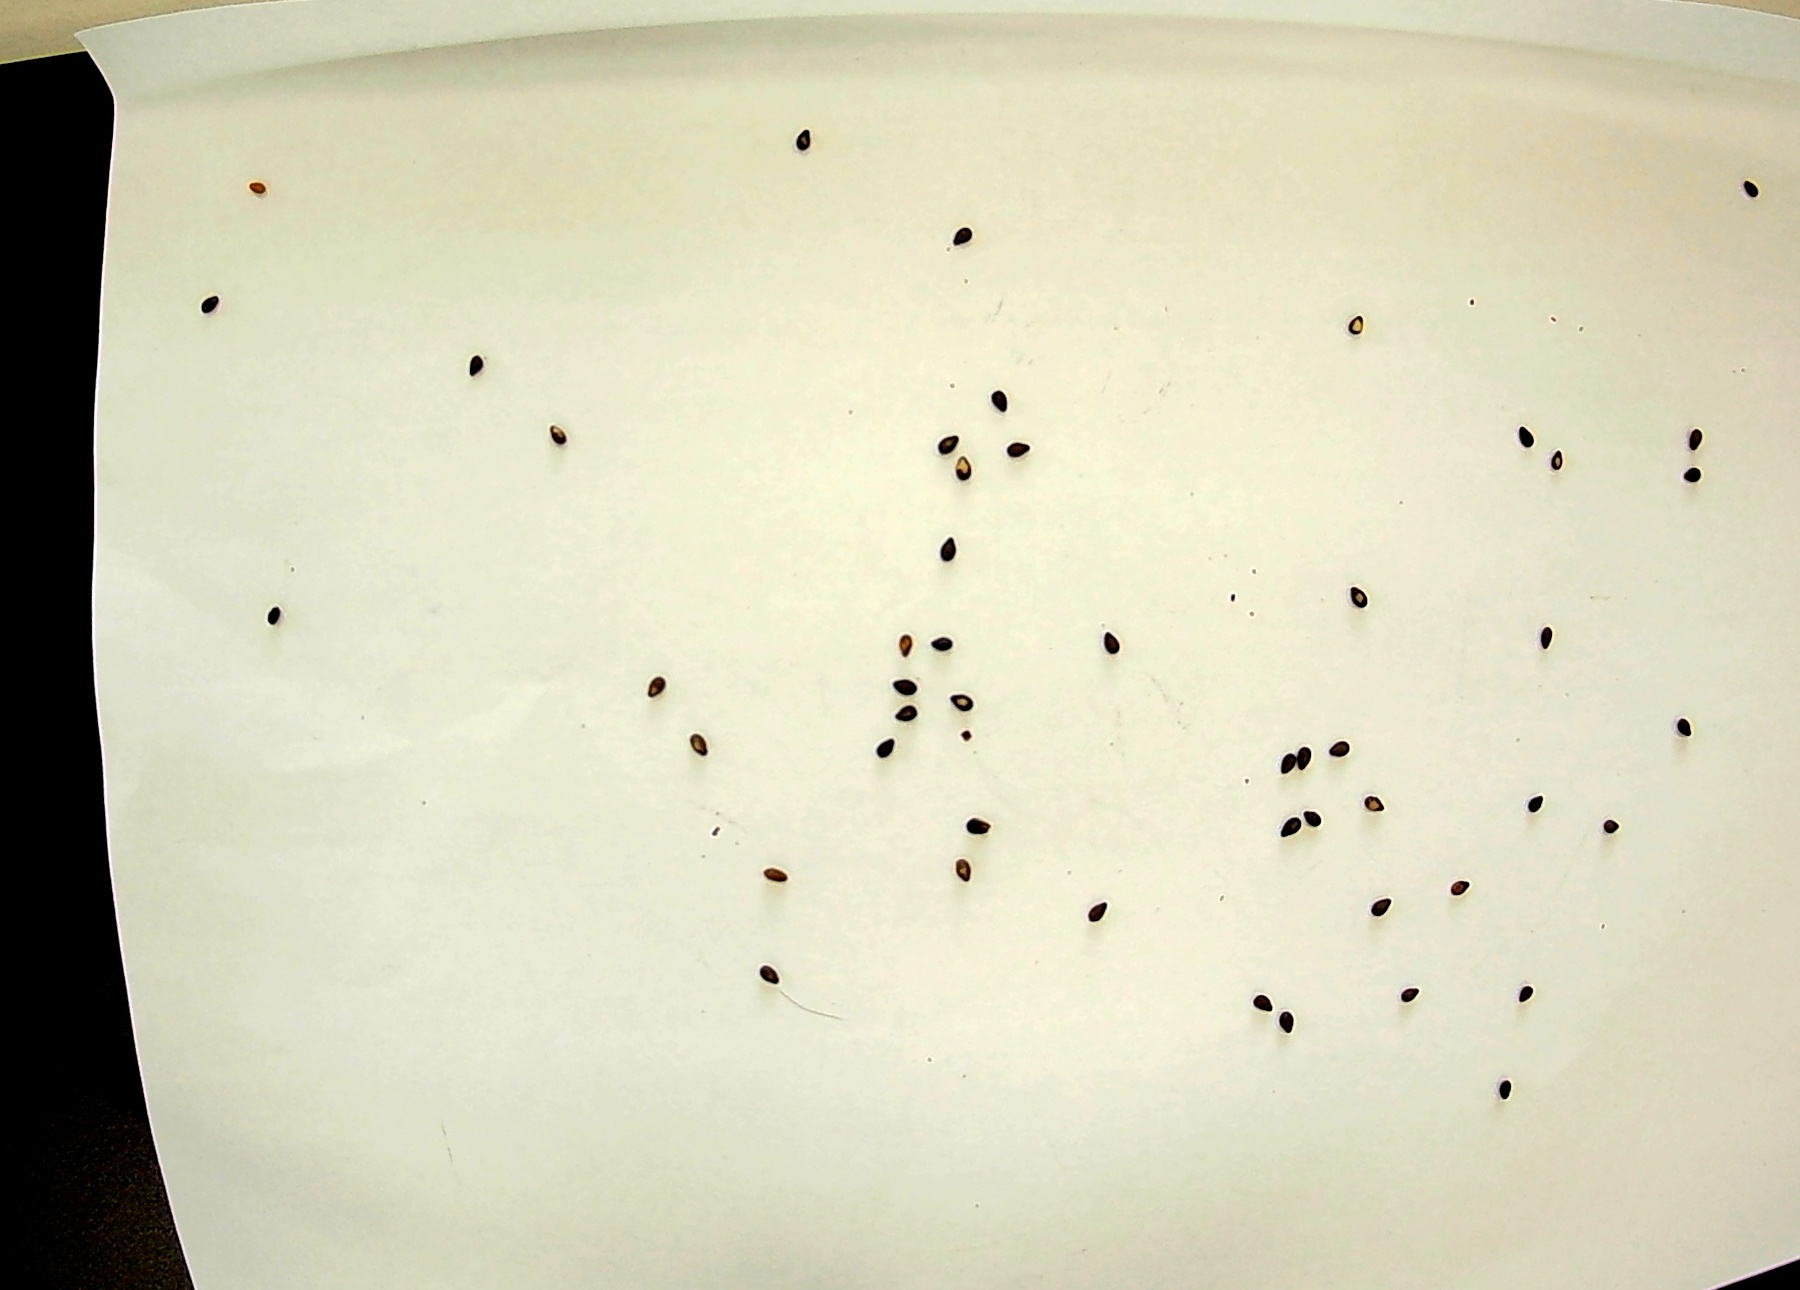sesami: (1331, 585, 1383, 628), (940, 216, 978, 261), (1681, 415, 1718, 459), (1507, 966, 1543, 1007), (1293, 732, 1326, 776), (1522, 620, 1563, 655), (1370, 891, 1402, 933), (1094, 623, 1125, 666), (532, 417, 572, 450), (1672, 459, 1708, 494), (681, 726, 719, 759), (1273, 733, 1298, 783), (885, 672, 927, 701), (889, 698, 922, 734), (1525, 783, 1566, 813), (1249, 981, 1281, 1018), (1358, 792, 1407, 815), (938, 524, 968, 561), (250, 610, 301, 632), (747, 961, 791, 986), (875, 730, 910, 762), (957, 813, 992, 845), (1342, 316, 1374, 350), (639, 676, 675, 706), (1300, 806, 1331, 842), (751, 868, 793, 895), (786, 124, 811, 168), (174, 290, 225, 311), (453, 353, 488, 383), (1273, 1007, 1305, 1037), (1513, 412, 1538, 451), (1494, 1067, 1520, 1106), (931, 624, 967, 651), (928, 430, 968, 454), (987, 385, 1024, 410), (1330, 734, 1363, 762), (953, 853, 987, 880), (1593, 814, 1628, 839), (939, 459, 975, 483), (1275, 806, 1305, 835), (1395, 986, 1434, 1007), (1088, 895, 1113, 927), (945, 685, 975, 711), (996, 438, 1035, 458), (1550, 450, 1575, 476), (1448, 877, 1473, 903), (1740, 184, 1767, 209), (1670, 713, 1693, 741), (900, 630, 918, 658), (246, 181, 271, 197)
